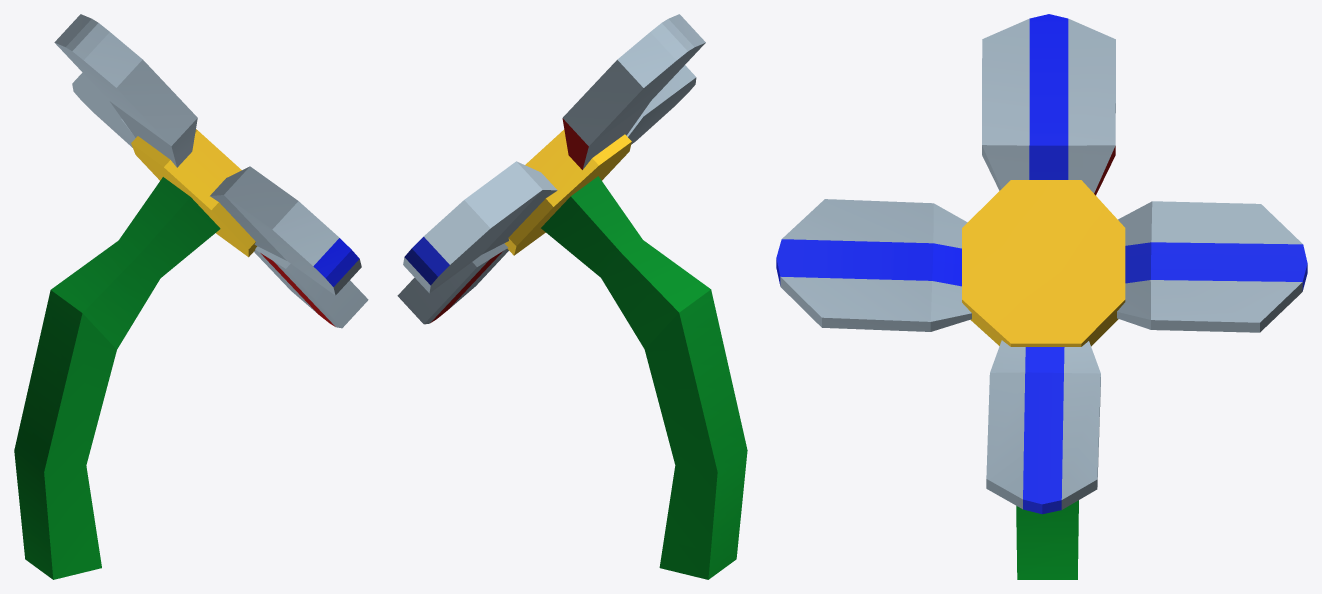
Rendered from FLORESRECOGER3 .fbx.
3 views of the same model, side by side, from view 1: azimuth 30°, elevation 25°; view 2: azimuth 150°, elevation 25°; view 3: azimuth 270°, elevation 25° (orthographic). The views are drawn at different scales.
Visible parts, largest first — view 1: Cube.002; view 2: Cube.002; view 3: Cube.002.
Boxes of the visible parts, left/top/right/bottom form: Cube.002: left=14, top=14, right=368, bottom=579; Cube.002: left=397, top=14, right=747, bottom=579; Cube.002: left=776, top=14, right=1307, bottom=579.
Bounding box in the file's own units: 1330 × 2083 × 1754.
